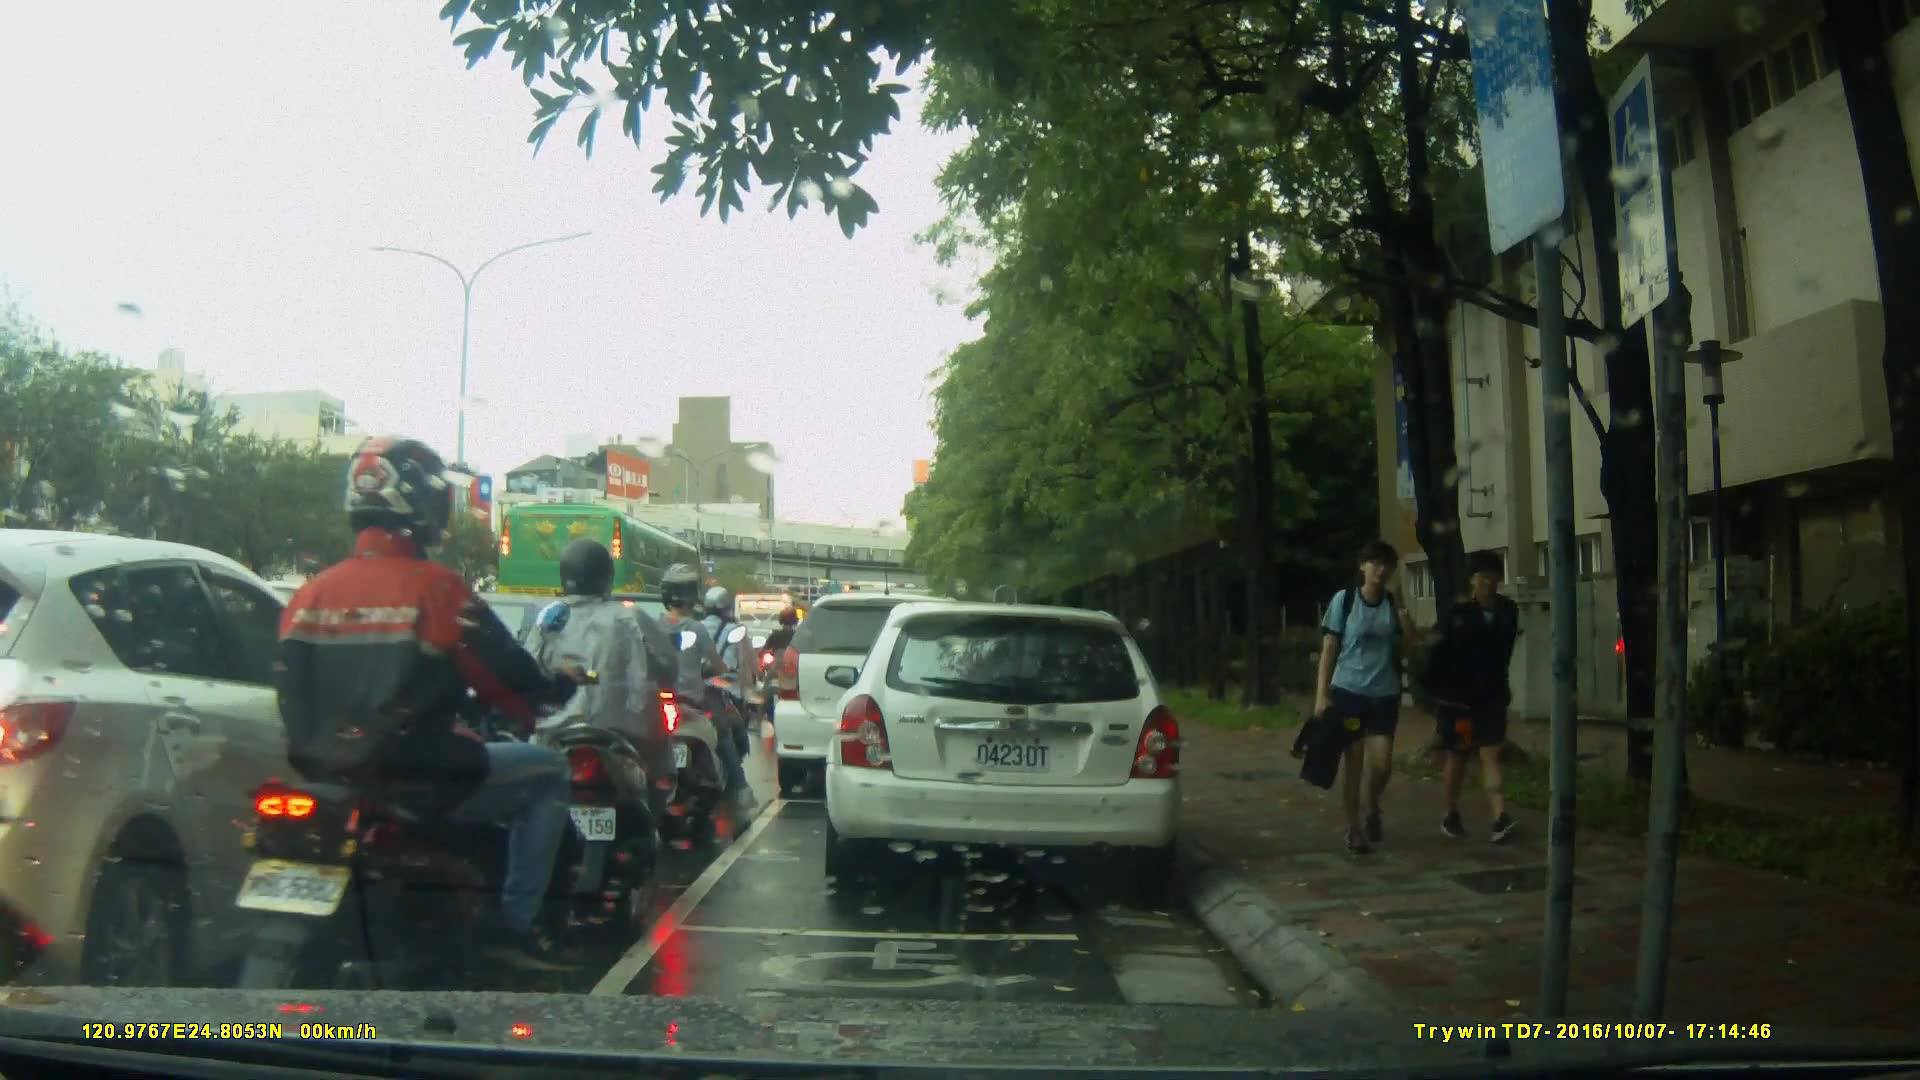pedestrian: (1290, 537, 1442, 860), (1438, 542, 1532, 852)
rider: (232, 432, 594, 1017), (515, 545, 702, 907), (636, 564, 745, 829), (688, 586, 763, 776), (763, 601, 809, 727)
vehicle: (1, 529, 453, 988), (831, 592, 1196, 897), (320, 590, 628, 785), (770, 590, 999, 803), (495, 501, 707, 636)
